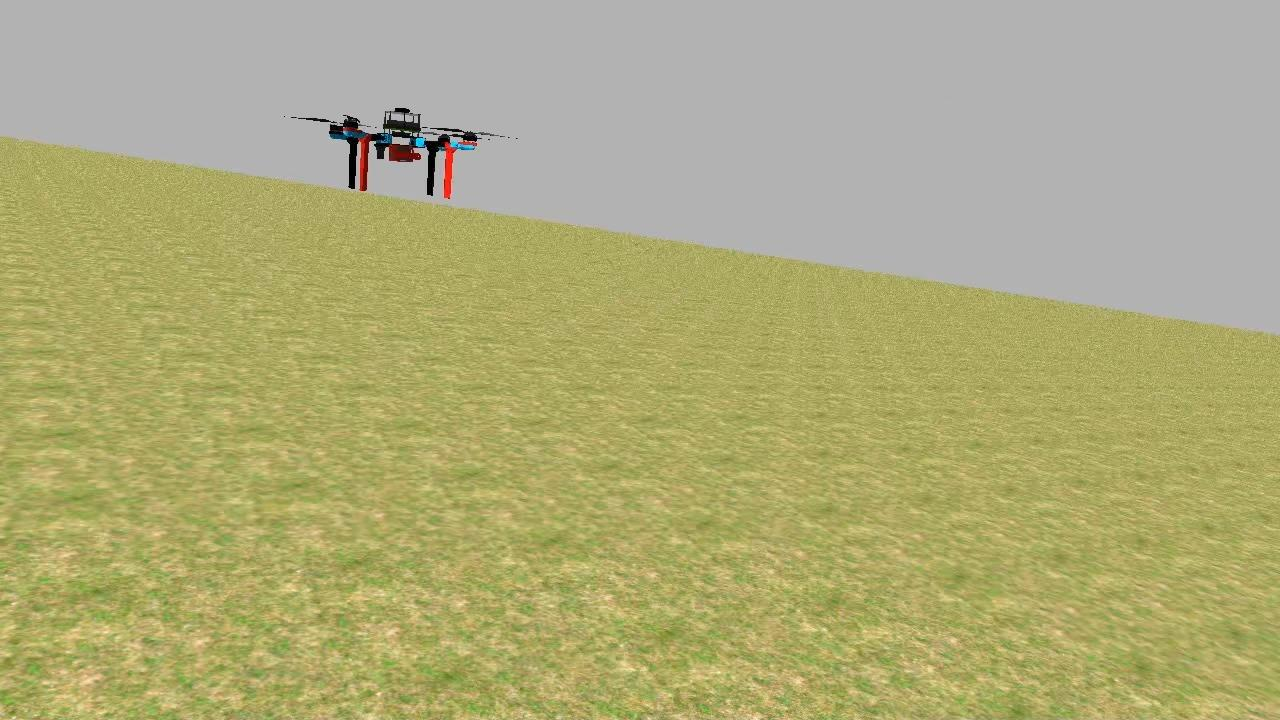UAV: (322, 94, 487, 200)
